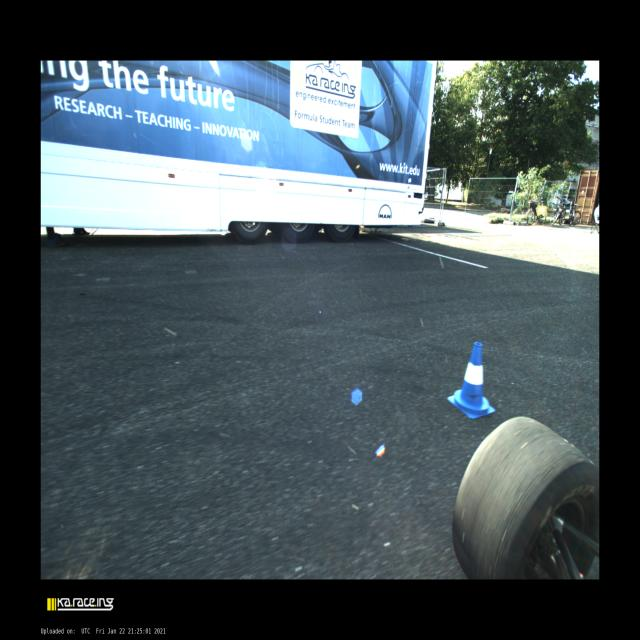blue_cone: (447, 342, 495, 419)
